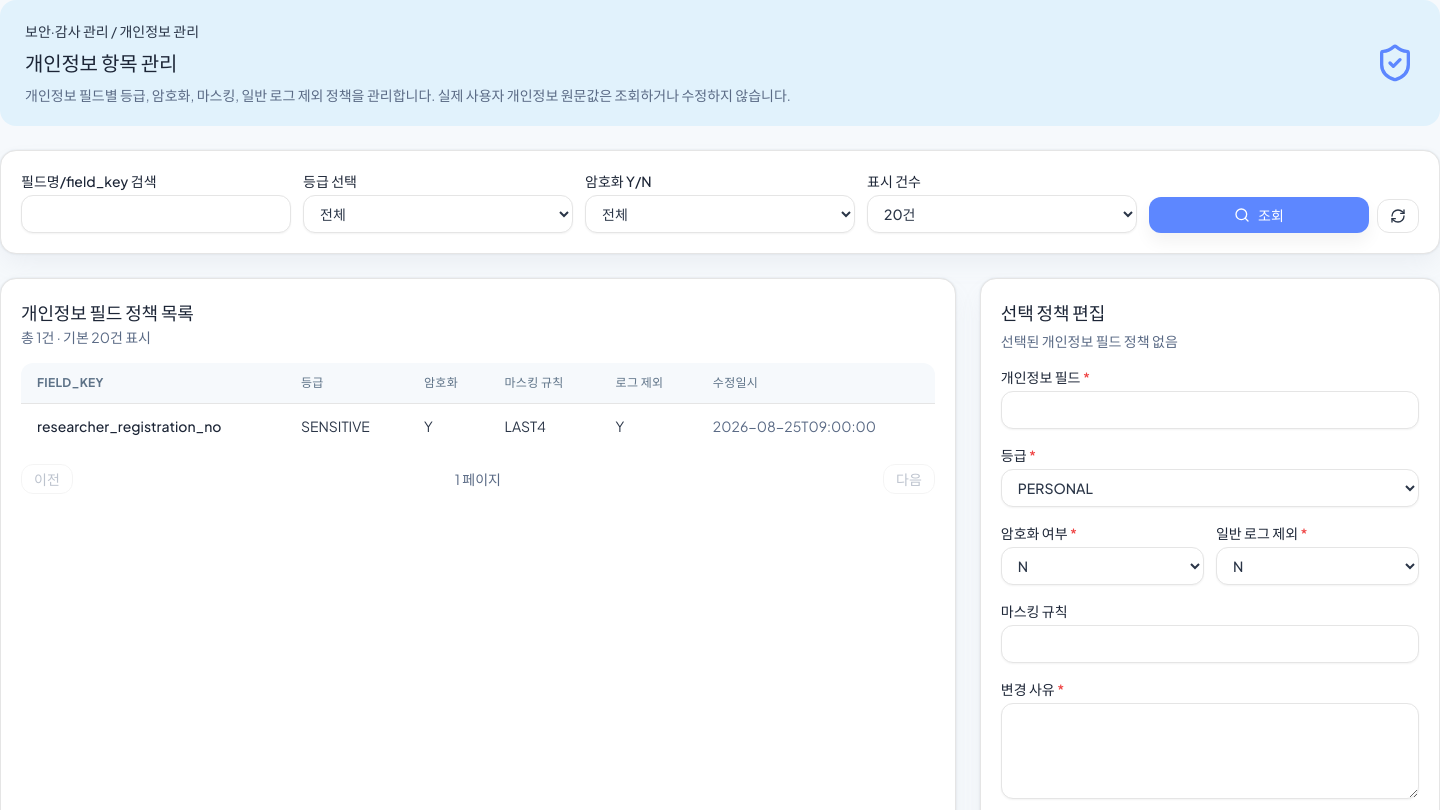
Test: PrivacyPolicyManagementPage › 행 선택 후 저장 확인을 거쳐 저장하고 성공 재조회를 수행한다
The image size is (1440, 810).
Click the row with test id "privacy-policy-row-1" at (129, 426), box [21,404,935,448]
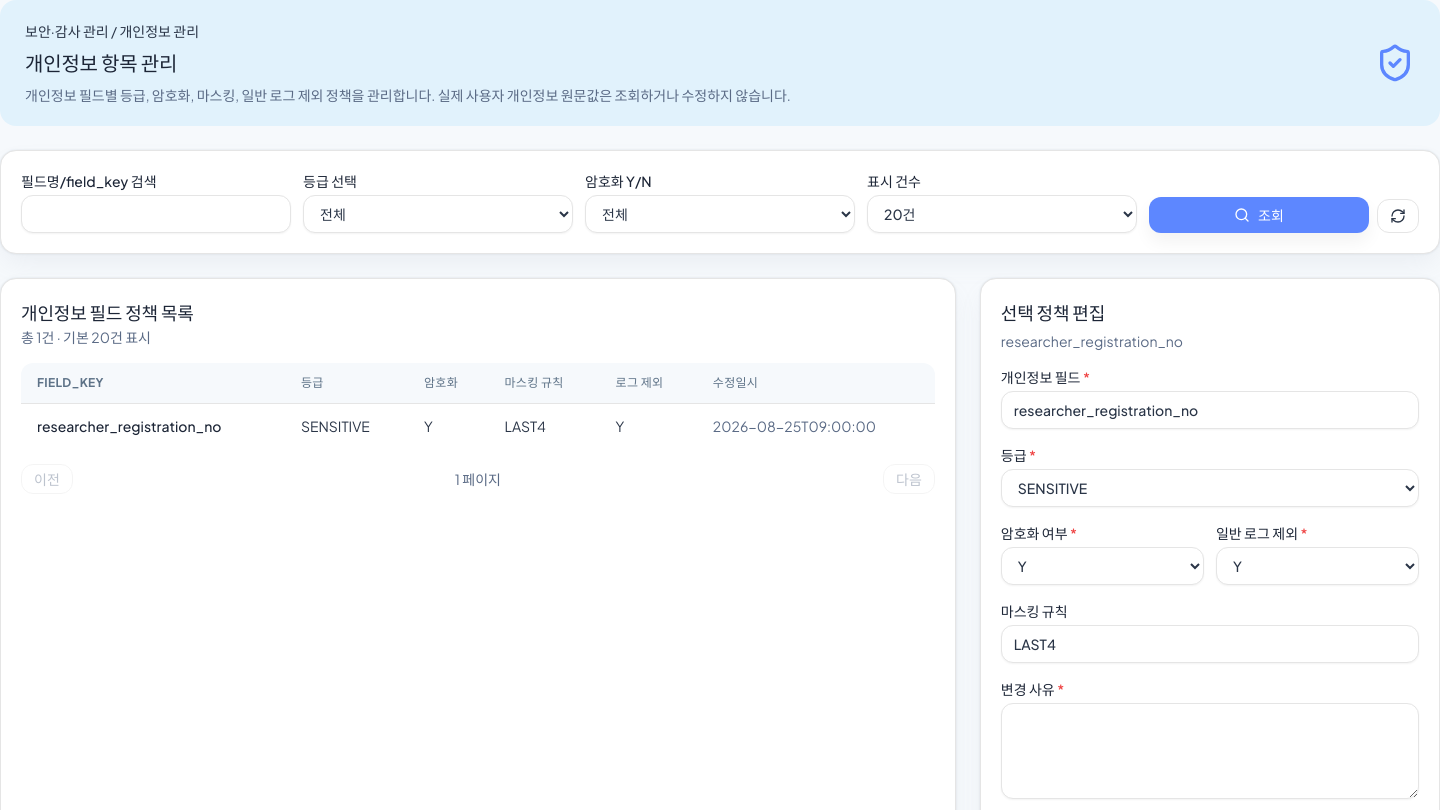
Type "암호화 정책 변경" into the text box with test id "privacy-policy-change-reason-input" at (1210, 751), box [1001,703,1419,799]
(page scrolled)
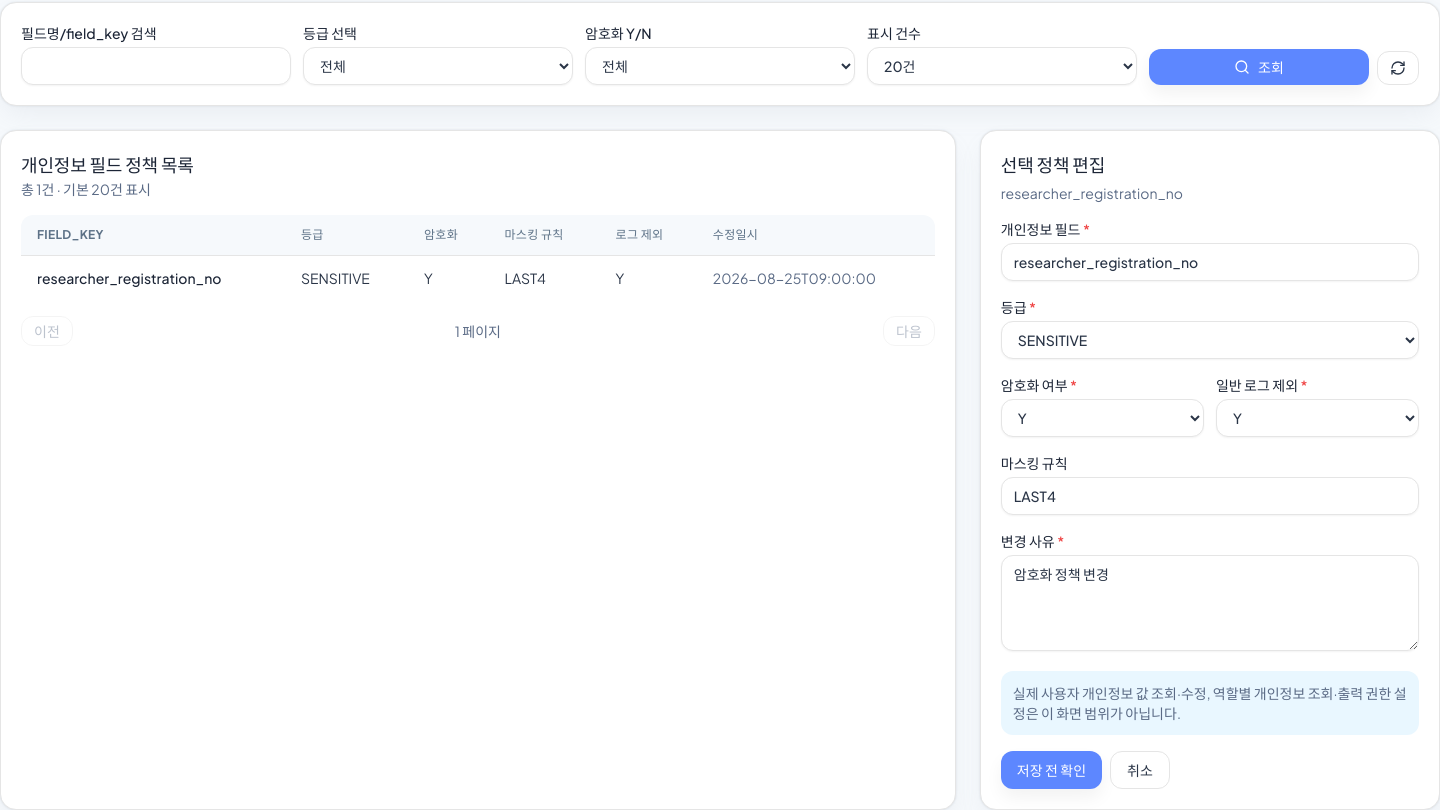
Click the button with test id "privacy-policy-save-button" at (1051, 770), box [1001,751,1102,789]
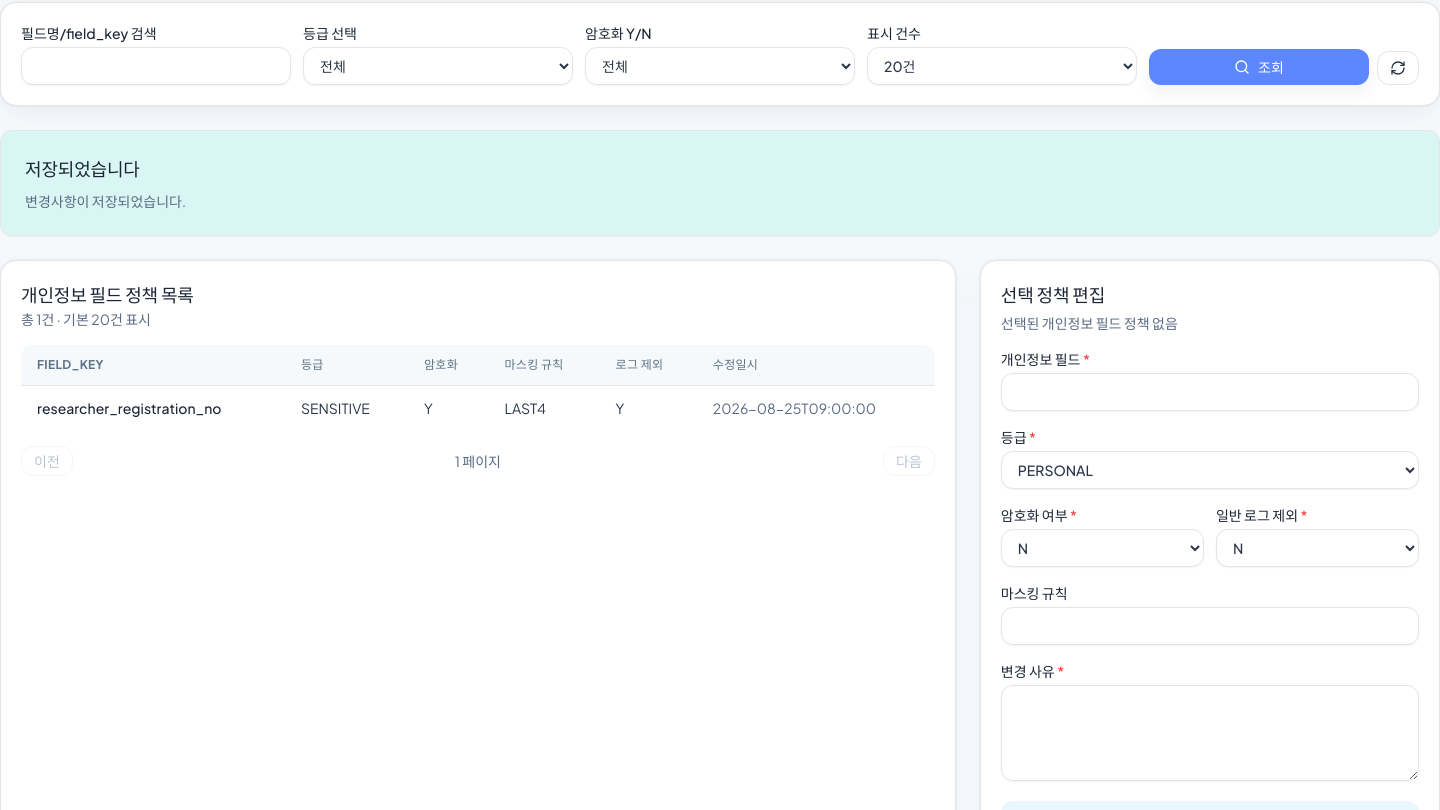
Result: the heading "저장되었습니다" is shown at [25,157,140,180]
